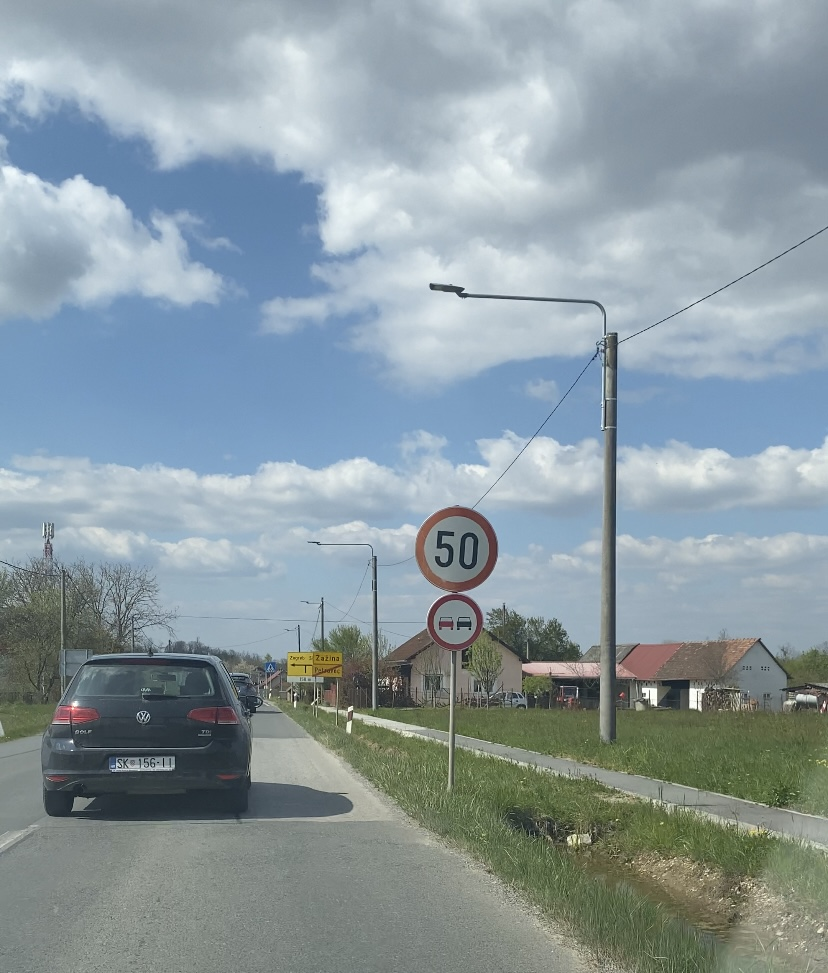Ograničenje brzine 50: (415, 507, 499, 593)
Pješački prijelaz: (265, 662, 276, 673)
Zabrana pretjecanja: (427, 594, 483, 651)
